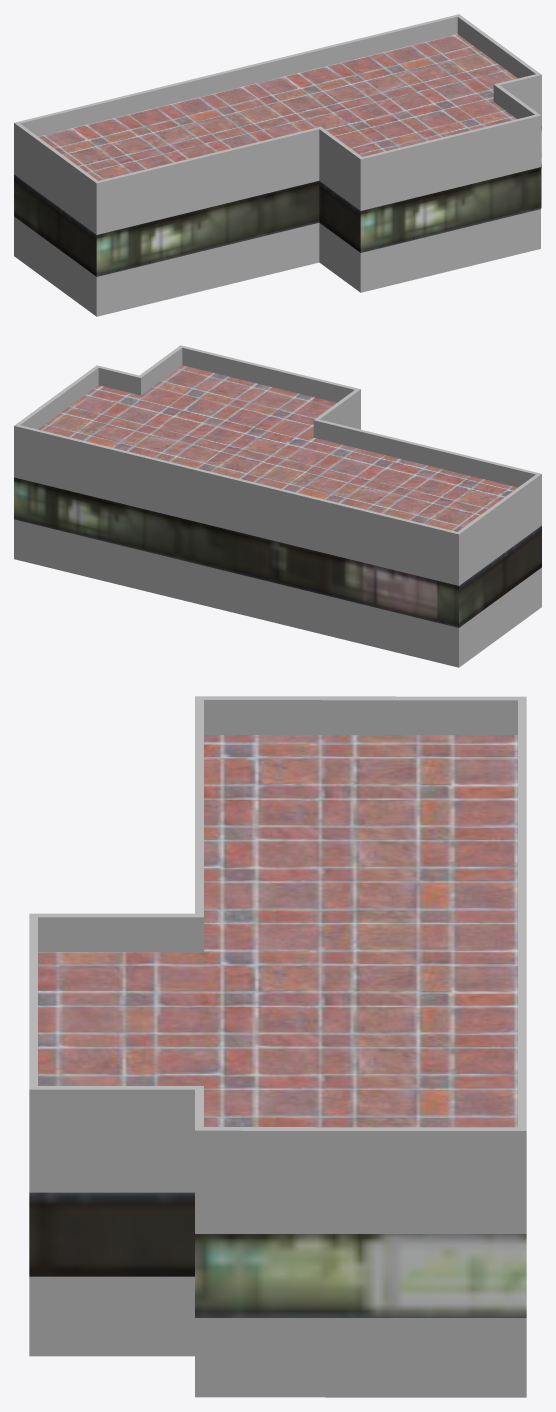
The model's file is hirise_parts07_1f.fbx.
The picture shows the model from 3 angles, top to bottom: view 1: azimuth 30°, elevation 25°; view 2: azimuth 150°, elevation 25°; view 3: azimuth 270°, elevation 25°; orthographic projection. The views are drawn at different scales.
Parts seen in each view (by area): view 1: hirise_parts07_1f; view 2: hirise_parts07_1f; view 3: hirise_parts07_1f.
Part boxes in pixels (x1,y1,x2,y2): hirise_parts07_1f: (14, 14, 541, 316); hirise_parts07_1f: (14, 345, 541, 667); hirise_parts07_1f: (29, 696, 526, 1397).
Bounding box in the file's own units: 17.68 × 5.06 × 8.55.
